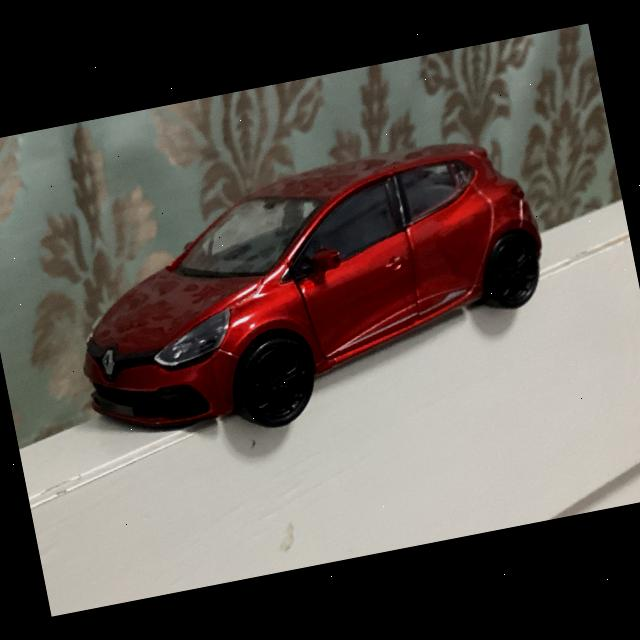Dogru_Jant: (244, 346, 314, 422), (489, 242, 542, 304)
